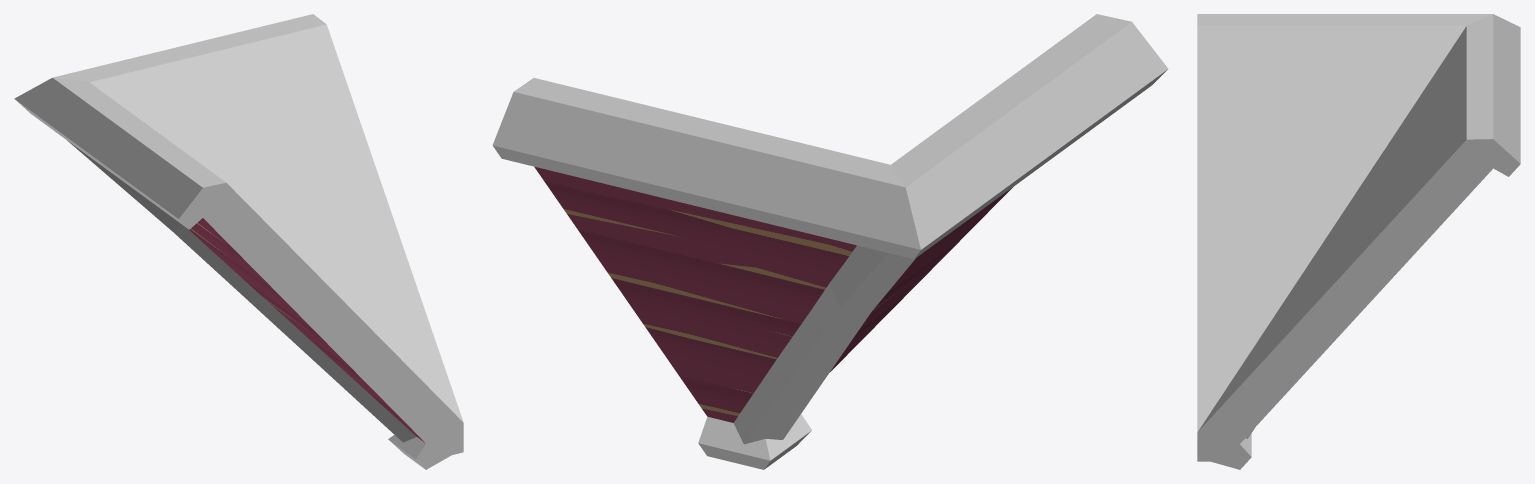
The model's file is SM_Bld_Roof_S_Straight_Corner_In_01.fbx.
3 renders of one model, left to right at view 1: azimuth 30°, elevation 25°; view 2: azimuth 150°, elevation 25°; view 3: azimuth 270°, elevation 25°, orthographic. The views are drawn at different scales.
Parts seen in each view (by area): view 1: SM_Bld_Roof_S_Straight_Corner_In_01; view 2: SM_Bld_Roof_S_Straight_Corner_In_01; view 3: SM_Bld_Roof_S_Straight_Corner_In_01.
Part boxes in pixels (left/top/right/bottom): SM_Bld_Roof_S_Straight_Corner_In_01: left=14, top=14, right=463, bottom=469; SM_Bld_Roof_S_Straight_Corner_In_01: left=492, top=14, right=1168, bottom=469; SM_Bld_Roof_S_Straight_Corner_In_01: left=1197, top=14, right=1520, bottom=469.
Bounding box in the file's own units: 137 × 154 × 137.
